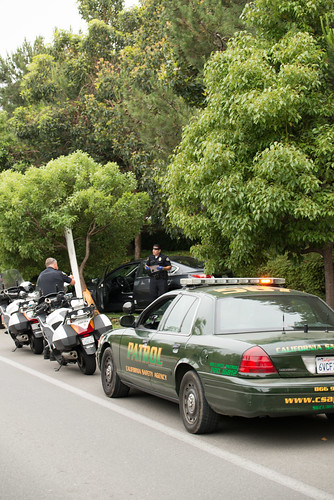motorcycle: (25, 300, 107, 372), (7, 283, 47, 345)
police car: (98, 282, 334, 424)
policeman: (36, 255, 73, 303), (144, 238, 172, 293)
tree: (189, 1, 334, 271), (1, 160, 136, 313)
